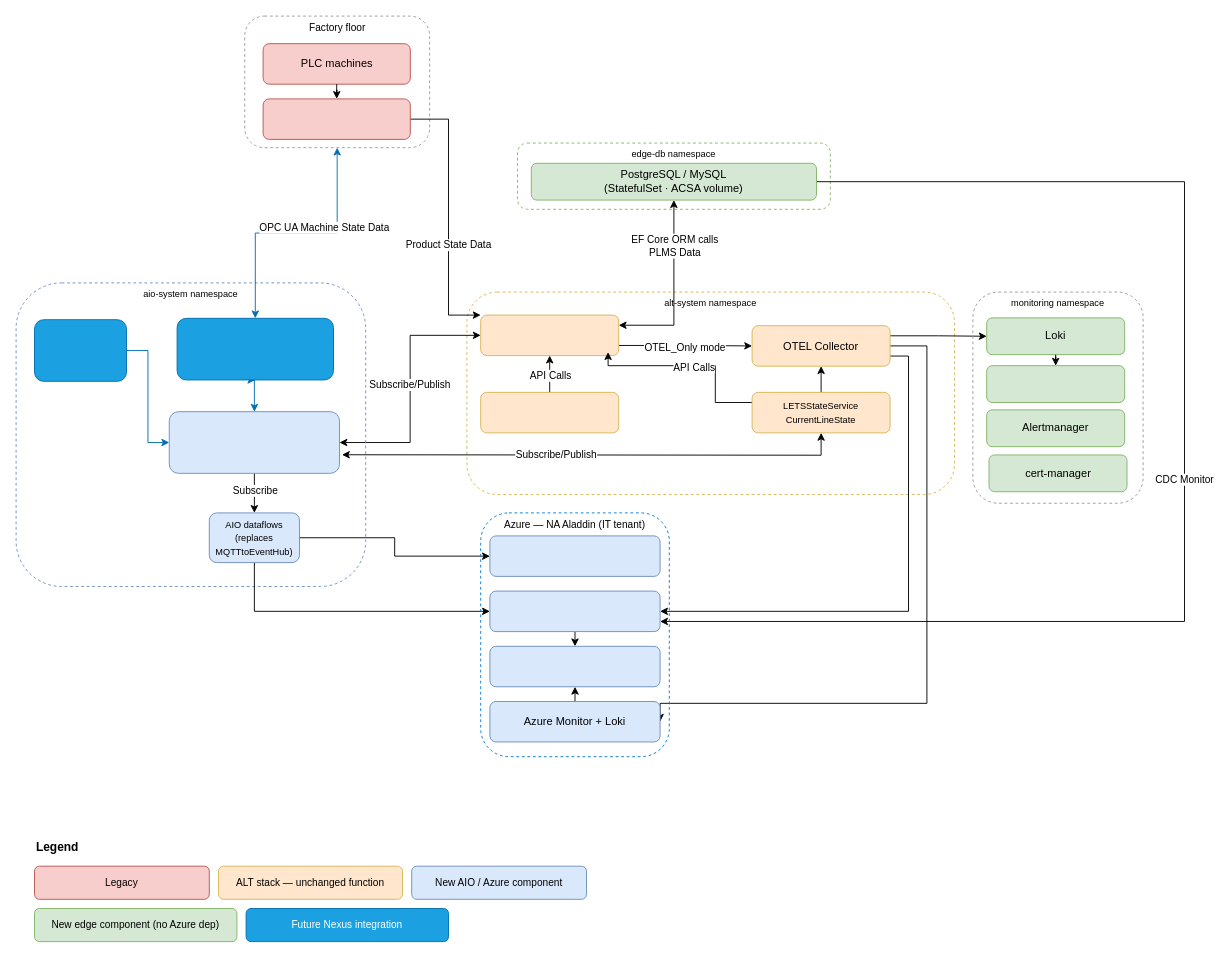
Some shapes in this 1230 by 958 pixel diagram are drawn without their labels. The centre of each missing label's shape, as x and y in pixels:
"ADLS Gen2 (archive + historical)" goes at point 574,666.
"AIO MQTT broker (mTLS · MQTT v5 · single instance)" goes at point 253,442.
"AIO OPC UA Broker" goes at point 255,348.
"ALT Core API" goes at point 549,335.
"Contoso gateway (Ignition — separate)" goes at point 336,118.
"Event Grid (Andon fast-path)" goes at point 574,555.
"Event Hubs (real-time telemetry)" goes at point 574,611.
"Flux / ALT UI" goes at point 549,412.
"Grafana" goes at point 1055,383.
"Media Connector" goes at point 80,350.
